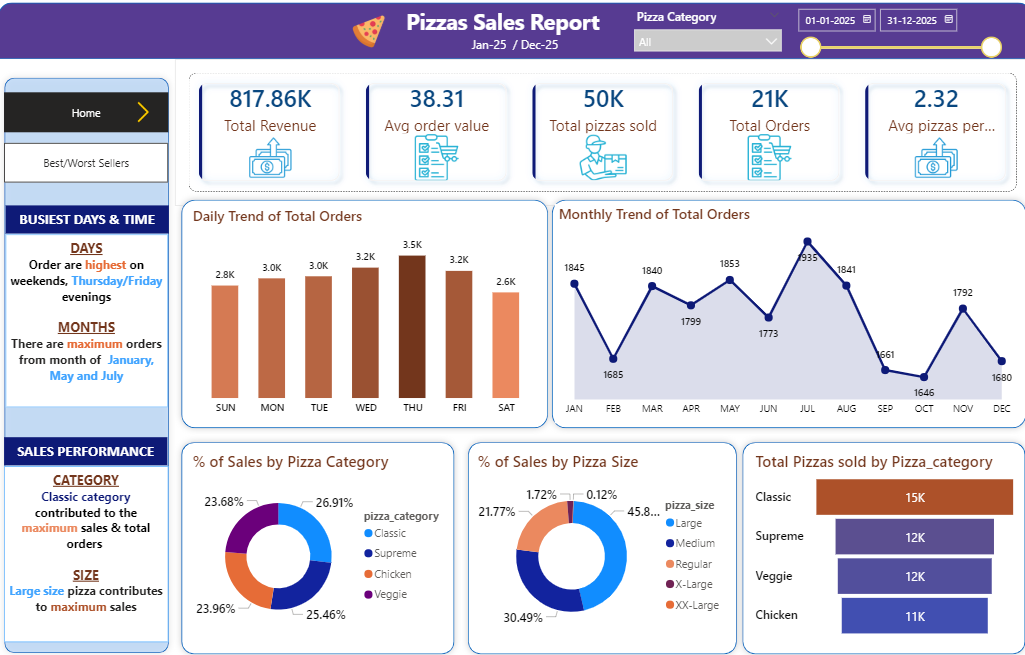

The dashboard page shown, as its layout file describes it:
{"tool":"powerbi","page":{"name":"Home","canvas":[1280,820],"ordinal":0},"visuals":[{"type":"cardVisual","fields":{"Data":["pizza_sales.Total Revenue","pizza_sales.Avg order value","pizza_sales.total pizzas sold","pizza_sales.Total Orders","pizza_sales.Avg pizzas per order"]},"box":[219.3,75.3,1060.2,181.6],"z":0},{"type":"shape","box":[13.2,5.7,1252.8,69.8],"z":1000},{"type":"textbox","box":[500,5.7,277.4,47.2],"z":2000},{"type":"textbox","box":[573.6,41.5,132.1,41.5],"z":3000},{"type":"image","box":[432.1,20.8,52.8,41.5],"z":4000},{"type":"shape","box":[219.3,242.2,469.5,298.7],"z":5000},{"type":"columnChart","title":"Daily Trend of Total Orders","fields":{"Category":["pizza_sales.Order Day"],"Y":["pizza_sales.Total Orders"]},"box":[235.4,257,438.6,269.1],"z":6000},{"type":"shape","box":[676.7,242.2,602.7,298.7],"z":7000},{"type":"areaChart","title":"Monthly Trend of Total Orders","fields":{"Category":["pizza_sales.Order Month"],"Y":["pizza_sales.Total Orders"]},"box":[688.8,254.3,577.2,271.8],"z":8000},{"type":"shape","box":[219.3,540.9,353.8,278.5],"z":9000},{"type":"shape","box":[573.1,540.9,348.5,278.5],"z":10000},{"type":"shape","box":[913.5,540.9,365.9,278.5],"z":11000},{"type":"shape","box":[0,91.5,219.3,727.9],"z":12000},{"type":"donutChart","title":"% of Sales by Pizza Category","fields":{"Category":["pizza_sales.pizza_category"],"Y":["pizza_sales.Total Revenue"]},"box":[236.8,561,321.6,235.4],"z":13000},{"type":"donutChart","title":"% of Sales by Pizza Size","fields":{"Y":["pizza_sales.Total Revenue"],"Category":["pizza_sales.pizza_size"]},"box":[587.9,561,321.6,235.4],"z":14000},{"type":"textbox","box":[9.4,257,202,35],"z":15000},{"type":"funnel","title":"Total Pizzas sold by Pizza_category","fields":{"Category":["pizza_sales.pizza_category"],"Y":["pizza_sales.Total pizzas sold"]},"box":[932.4,561,333.7,235.4],"z":16000},{"type":"textbox","box":[9.4,292,200.5,213.9],"z":17000},{"type":"textbox","box":[8,543.5,202,35],"z":18000},{"type":"textbox","box":[8.1,578.5,203.2,218],"z":19000},{"type":"slicer","fields":{"Values":["pizza_sales.pizza_category"]},"box":[777.6,8.1,201.8,63.2],"z":20000},{"type":"slicer","fields":{"Values":["pizza_sales.order_date"]},"box":[978.1,4,273.1,74],"z":21000},{"type":"pageNavigator","box":[8.1,117,203.2,49.8],"z":22000},{"type":"pageNavigator","box":[8.1,178.9,203.2,49.8],"z":23000},{"type":"image","box":[160.1,129.2,39,25.6],"z":23001}]}

Visuals, with their boxes in screenshot pixels (x1, y1, x2, y2), scaled from the page's 1280x820 canvas onto the 1025x655 screenshot:
cardVisual - pizza_sales.Total Revenue x pizza_sales.Avg order value: 176, 60, 1024, 205
shape: 11, 5, 1014, 60
textbox: 400, 5, 623, 42
textbox: 459, 33, 565, 66
image: 346, 17, 388, 50
shape: 176, 193, 552, 432
"Daily Trend of Total Orders" columnChart: 189, 205, 540, 420
shape: 542, 193, 1024, 432
"Monthly Trend of Total Orders" areaChart: 552, 203, 1014, 420
shape: 176, 432, 459, 654
shape: 459, 432, 738, 654
shape: 732, 432, 1024, 654
shape: 0, 73, 176, 654
"% of Sales by Pizza Category" donutChart: 190, 448, 447, 636
"% of Sales by Pizza Size" donutChart: 471, 448, 728, 636
textbox: 8, 205, 169, 233
"Total Pizzas sold by Pizza_category" funnel: 747, 448, 1014, 636
textbox: 8, 233, 168, 404
textbox: 6, 434, 168, 462
textbox: 6, 462, 169, 636
slicer - pizza_sales.pizza_category: 623, 6, 784, 57
slicer - pizza_sales.order_date: 783, 3, 1002, 62
pageNavigator: 6, 93, 169, 133
pageNavigator: 6, 143, 169, 183
image: 128, 103, 159, 124
